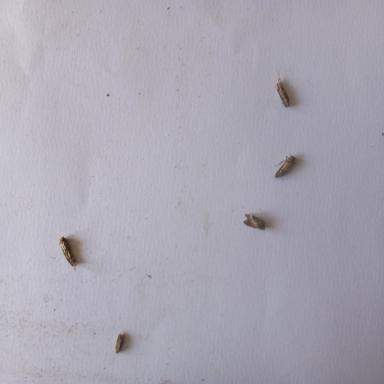pbw: (58, 233, 78, 269), (274, 72, 290, 108), (274, 154, 297, 178), (241, 213, 266, 229), (114, 332, 124, 354)
